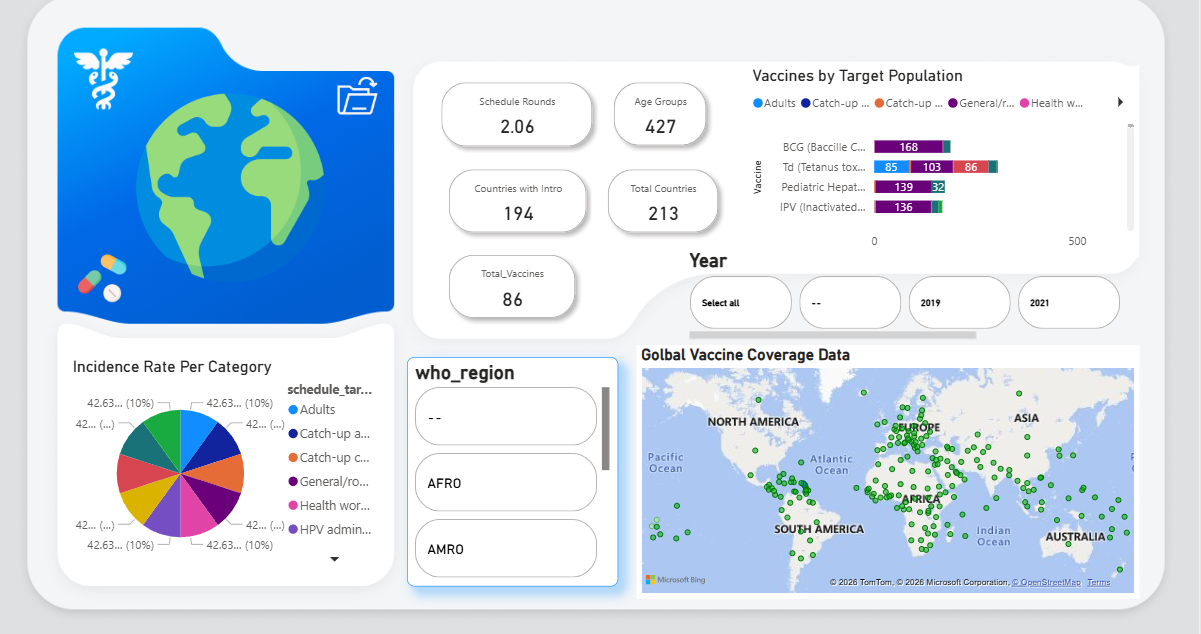

The dashboard page shown, as its layout file describes it:
{"tool":"powerbi","page":{"name":"Global Coverage","canvas":[1280,720],"ordinal":3},"visuals":[{"type":"image","box":[101.4,128.6,300,210],"z":0},{"type":"image","box":[358.6,110,57.1,52.9],"z":1000},{"type":"advancedSlicerVisual","fields":{"Values":["vaccine_schedule_intro_info.intro_year"]},"box":[732.9,298.6,468.6,102.9],"z":2000},{"type":"advancedSlicerVisual","fields":{"Values":["vaccine_schedule_intro_info.who_region"]},"box":[439,413.6,224.3,243.4],"z":3000},{"type":"cardVisual","fields":{"Data":["Table.Total_Vaccines"]},"box":[465.7,287.1,168.6,101.4],"z":4000},{"type":"cardVisual","fields":{"Data":["Table.Distinct_Age_Values"]},"box":[641.4,104.3,132.9,101.4],"z":5000},{"type":"cardVisual","fields":{"Data":["Table.Avg_Schedule_Rounds"]},"box":[458.6,104.3,194.3,102.9],"z":6000},{"type":"cardVisual","fields":{"Data":["Table.Countries_With_Intro"]},"box":[465.7,197.1,180,101.4],"z":7000},{"type":"barChart","title":"Vaccines by Target Population","fields":{"Category":["vaccine_schedule_intro_info.schedule_vaccine_description"],"Series":["vaccine_schedule_intro_info.schedule_target_description"],"Y":["Table.Country"]},"box":[800.1,105,415.1,203.6],"z":8000},{"type":"map","title":"Golbal Vaccine Coverage Data","fields":{"Category":["vaccine_schedule_intro_info.country_code"]},"box":[682.9,401.4,532.9,268.6],"z":9000},{"type":"cardVisual","fields":{"Data":["Table.Country"]},"box":[634.3,197.1,151.4,101.4],"z":10000},{"type":"pieChart","title":"Incidence Rate Per Category ","fields":{"Y":["Table.Avg_Incidence_Rate"],"Category":["vaccine_schedule_intro_info.schedule_target_description"]},"box":[80,412.9,335.7,227.1],"z":11000},{"type":"image","box":[80,298.6,72.9,61.4],"z":13000},{"type":"image","box":[79.5,39.8,74.8,157.5],"z":13001}]}

Visuals, with their boxes on the page's 1280x720 design canvas (x1, y1, x2, y2). These are canvas units, not pixel positions in the 1201x634 screenshot, which may show the page scaled, cropped or inside an application window:
image: (left=101, top=129, right=401, bottom=339)
image: (left=359, top=110, right=416, bottom=163)
advancedSlicerVisual - vaccine_schedule_intro_info.intro_year: (left=733, top=299, right=1202, bottom=402)
advancedSlicerVisual - vaccine_schedule_intro_info.who_region: (left=439, top=414, right=663, bottom=657)
cardVisual - Table.Total_Vaccines: (left=466, top=287, right=634, bottom=388)
cardVisual - Table.Distinct_Age_Values: (left=641, top=104, right=774, bottom=206)
cardVisual - Table.Avg_Schedule_Rounds: (left=459, top=104, right=653, bottom=207)
cardVisual - Table.Countries_With_Intro: (left=466, top=197, right=646, bottom=298)
"Vaccines by Target Population" barChart: (left=800, top=105, right=1215, bottom=309)
"Golbal Vaccine Coverage Data" map: (left=683, top=401, right=1216, bottom=670)
cardVisual - Table.Country: (left=634, top=197, right=786, bottom=298)
"Incidence Rate Per Category " pieChart: (left=80, top=413, right=416, bottom=640)
image: (left=80, top=299, right=153, bottom=360)
image: (left=80, top=40, right=154, bottom=197)
